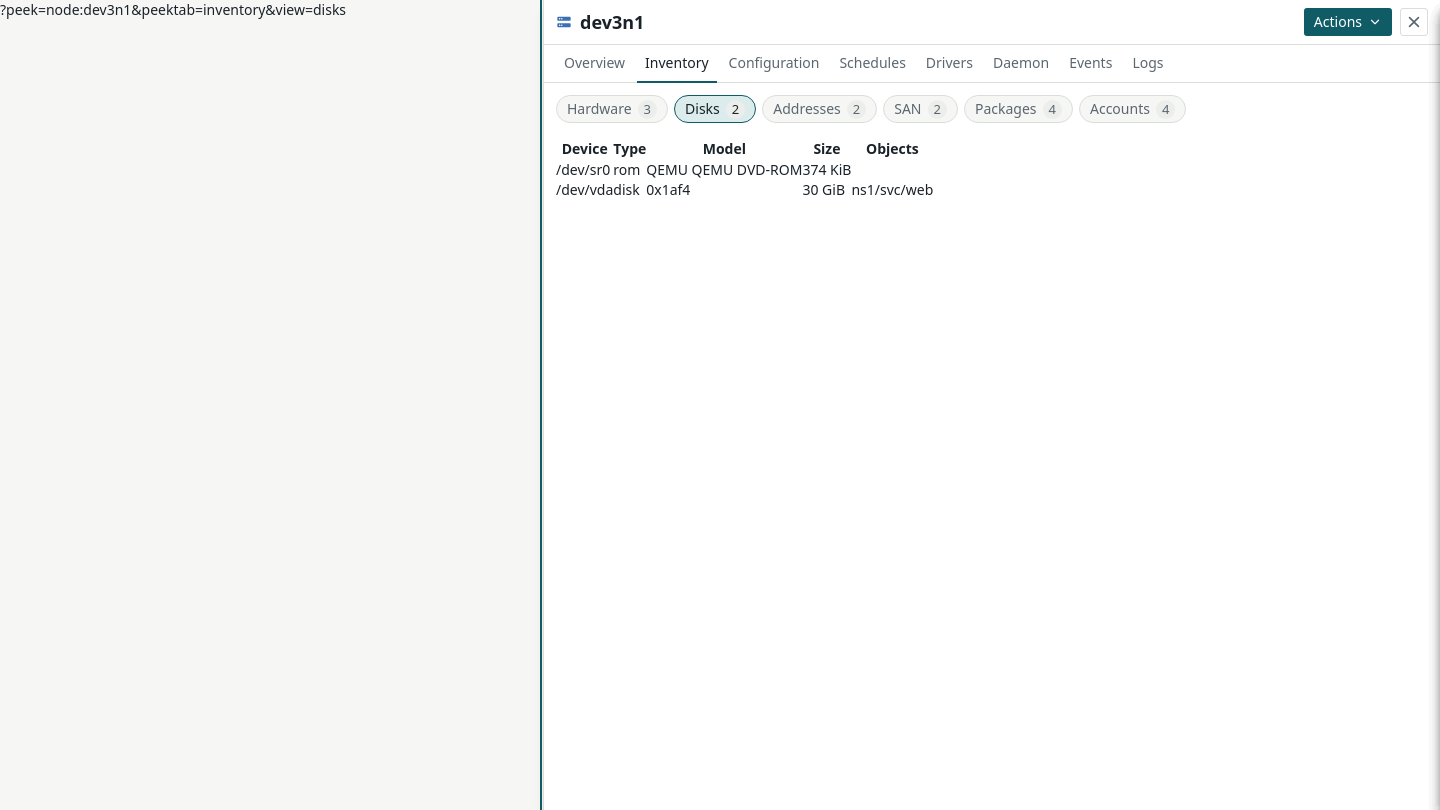
Scenario: NodeDetailPanel › the objects on a disk, each the badge of its instance on the node, named by its path
This screenshot has width=1440, height=810.
Click the button "ns1/svc/web".
click(892, 190)  # box [852,180,933,200]
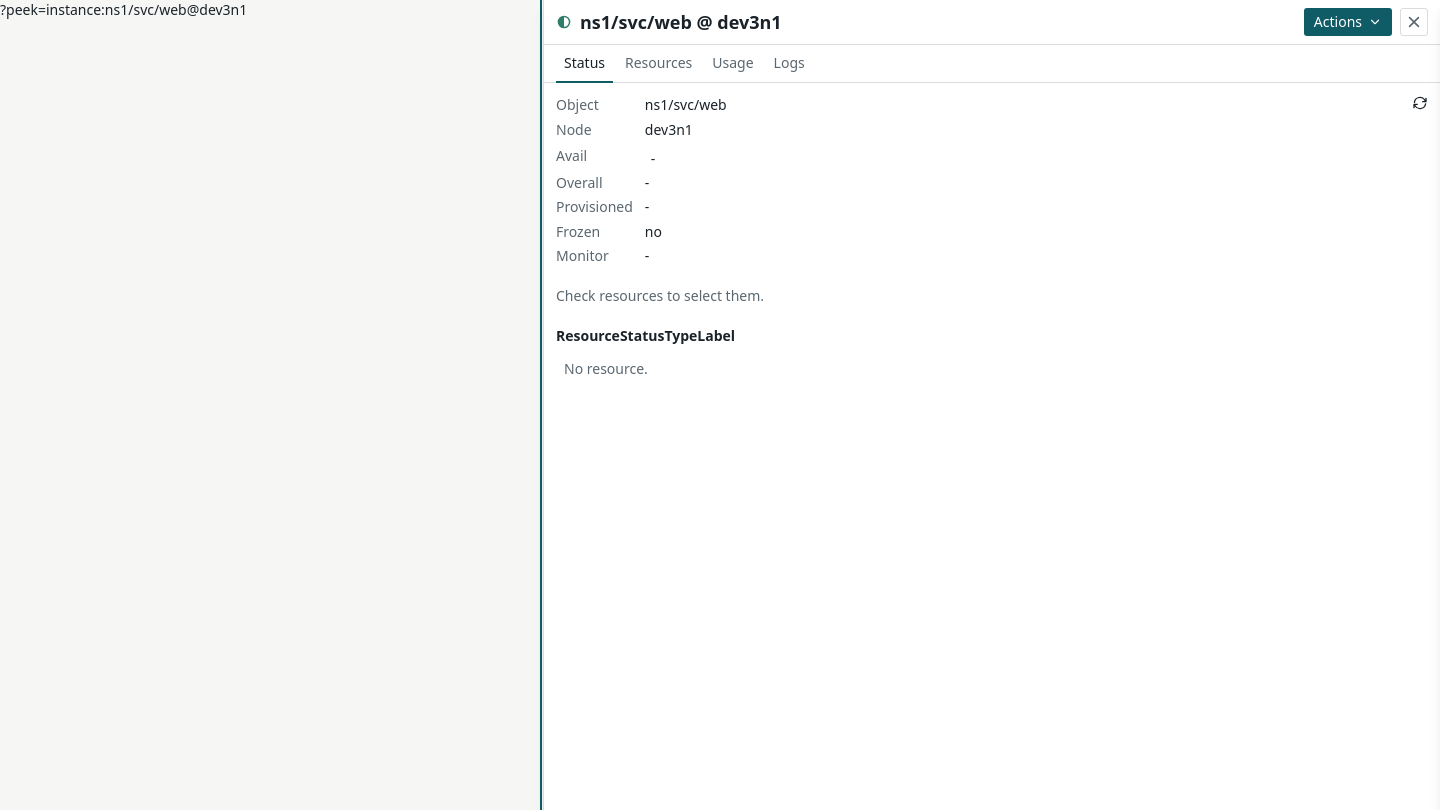
Result: the text with test id "location" shows "peek=instance:ns1/svc/web@dev3n1" at [0,0,247,19]
